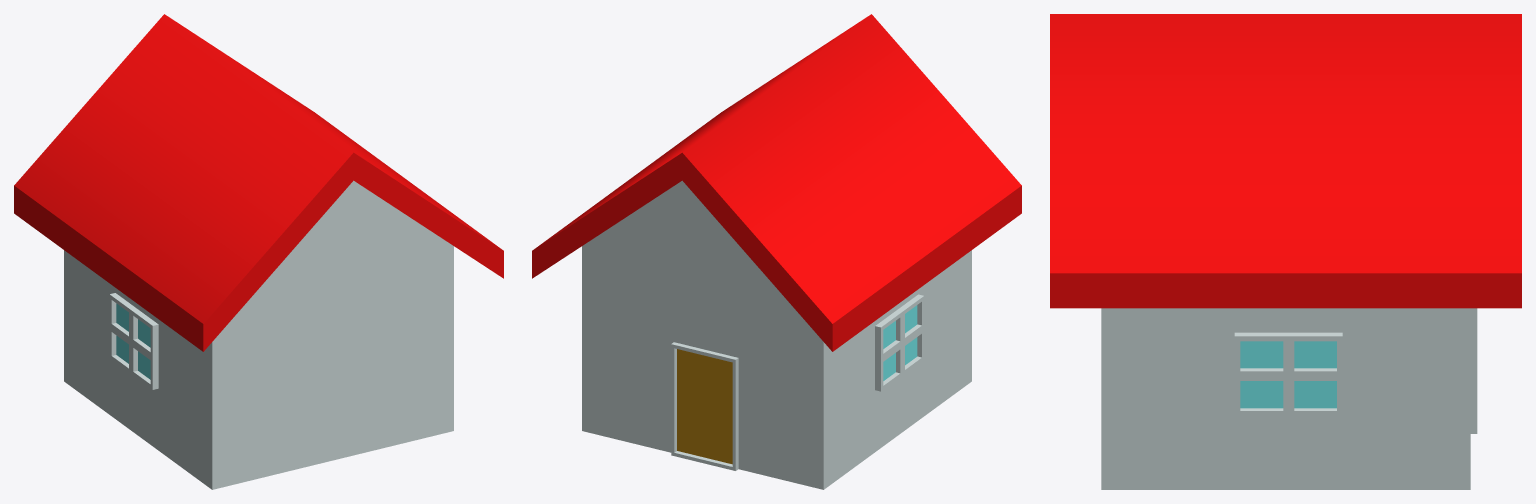
File: house.FBX
The picture shows the model from 3 angles, left to right: view 1: azimuth 30°, elevation 25°; view 2: azimuth 150°, elevation 25°; view 3: azimuth 270°, elevation 25°; orthographic projection. The views are drawn at different scales.
Parts seen in each view (by area): view 1: house, Roof; view 2: house, Roof; view 3: Roof, house.
Boxes of the visible parts, x1,y1,x2,y2 form: house: [64, 180, 453, 489]; Roof: [14, 14, 503, 351]; house: [582, 180, 971, 489]; Roof: [532, 14, 1021, 351]; Roof: [1050, 14, 1521, 308]; house: [1101, 308, 1477, 489].
Size of the model in its own units: 23.31 by 23.95 by 25.44.
